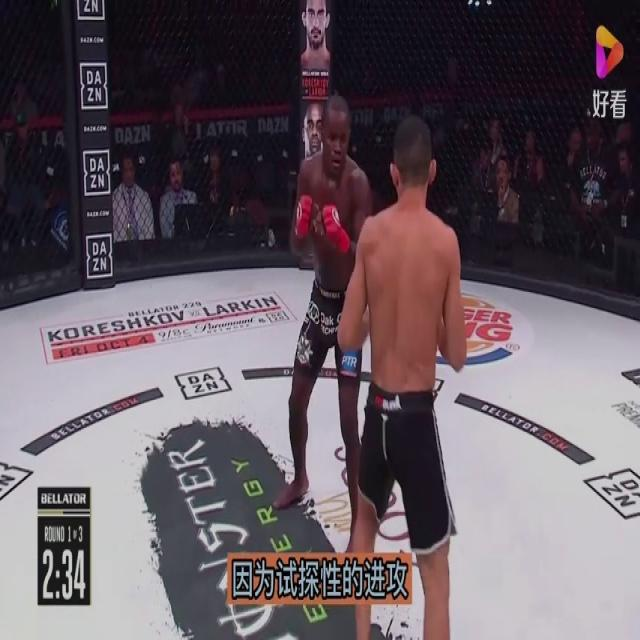fight: (284, 102, 468, 638)
